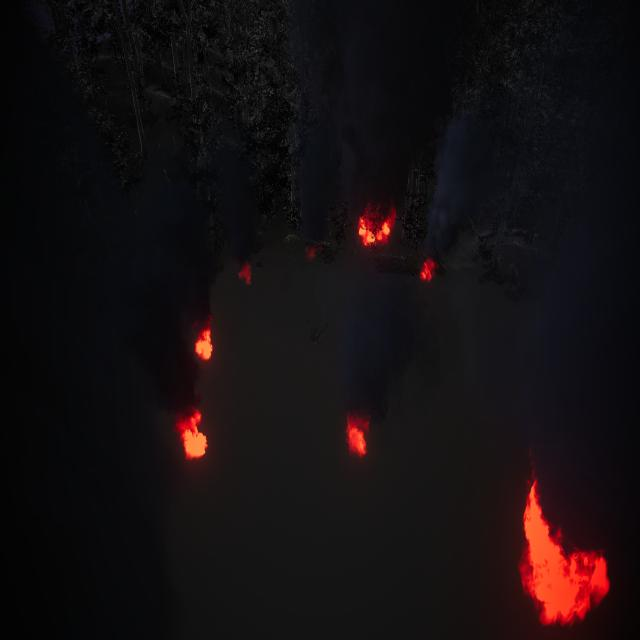Human: (302, 312, 336, 352)
